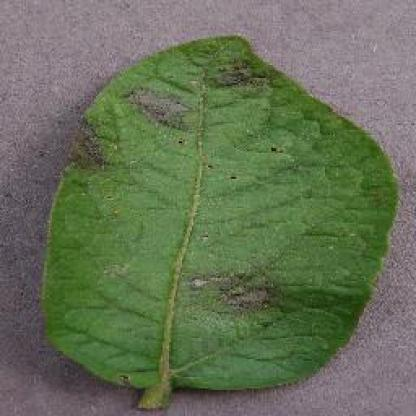bad leaf: (36, 44, 390, 396)
